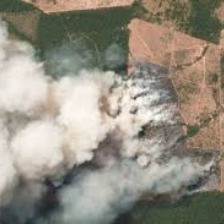incendio: (104, 70, 179, 183), (108, 148, 218, 205)
